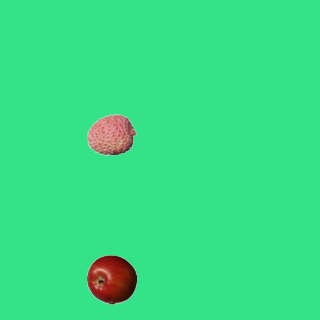Apple Braeburn: (86, 254, 136, 304)
Lychee: (86, 109, 136, 159)
